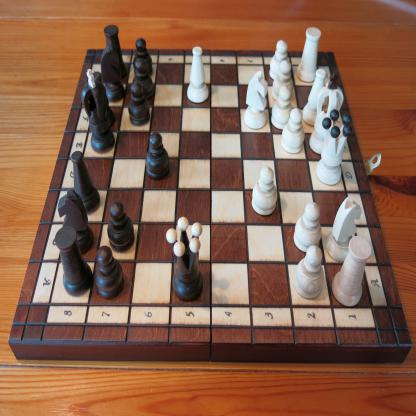black-bishop: (71, 149, 100, 213), (91, 68, 117, 127)
black-king: (82, 68, 116, 153)
black-knight: (57, 189, 93, 253), (100, 45, 124, 100)
black-pawn: (94, 244, 126, 299), (106, 200, 135, 251), (145, 131, 170, 180), (131, 56, 154, 100), (128, 80, 150, 126), (132, 36, 153, 78)
black-queen: (166, 216, 204, 302)
black-rook: (54, 223, 94, 296), (104, 23, 128, 78)
white-bishop: (324, 151, 356, 216), (302, 66, 326, 126), (186, 45, 209, 105)
white-king: (309, 70, 345, 154)
white-knight: (324, 195, 362, 263), (242, 71, 269, 131)
white-pawn: (293, 244, 324, 300), (293, 200, 322, 252), (250, 166, 279, 216), (281, 104, 305, 154), (271, 83, 294, 128), (269, 38, 291, 79), (272, 58, 293, 100)
white-queen: (316, 107, 353, 184)
white-rook: (332, 233, 374, 308), (296, 25, 323, 81)
